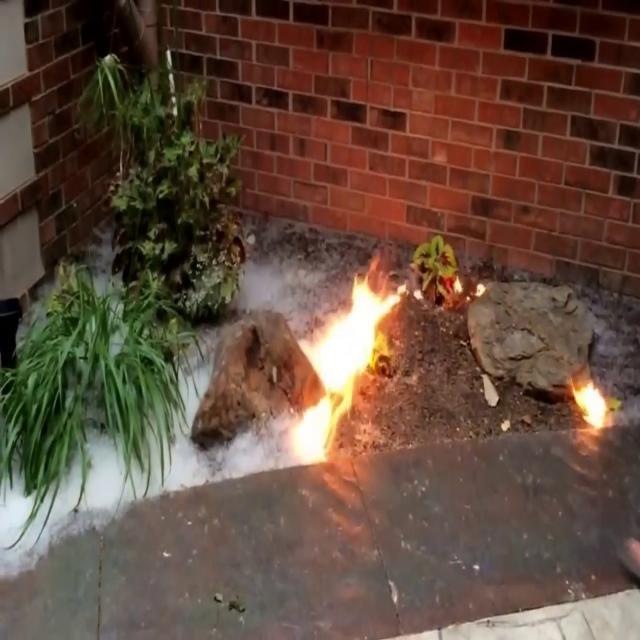Fire: (284, 264, 398, 462), (569, 371, 612, 433)
